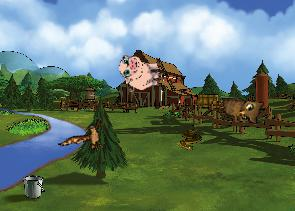eagle: (57, 108, 115, 167)
owl: (216, 96, 264, 126)
pig: (119, 52, 162, 92)
